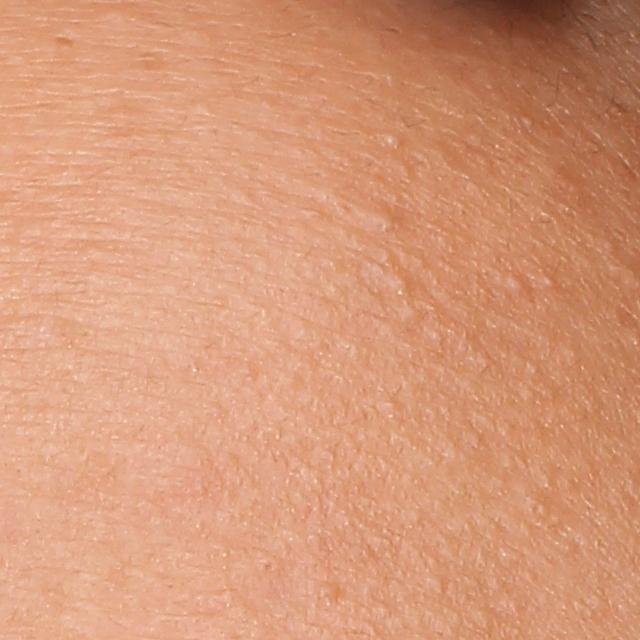comedo: (380, 273, 415, 301), (365, 208, 398, 235), (314, 579, 339, 600), (505, 274, 528, 295), (258, 556, 281, 575), (384, 133, 402, 151), (542, 274, 558, 288)
